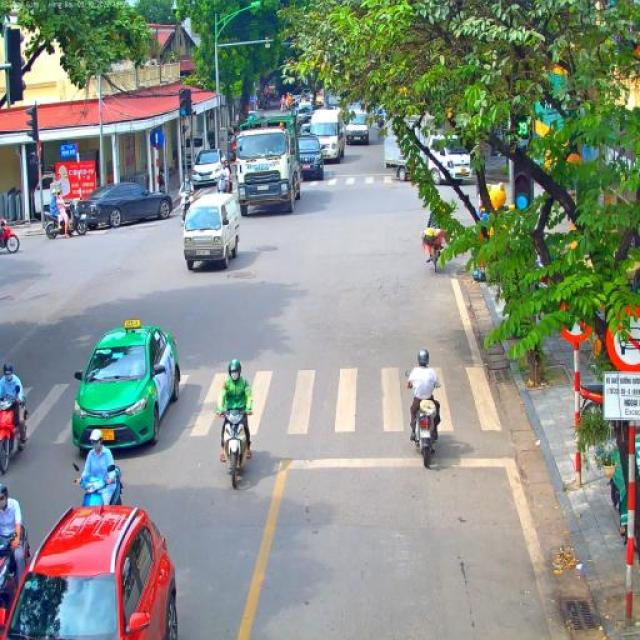car: (0, 504, 179, 640), (72, 319, 182, 455), (73, 181, 173, 231), (183, 192, 239, 272), (310, 108, 345, 164), (191, 148, 224, 186), (298, 135, 324, 181), (344, 107, 370, 145), (295, 101, 315, 132), (299, 123, 312, 137), (316, 91, 324, 108)
motorcycle: (404, 370, 440, 470), (215, 408, 253, 490), (0, 385, 28, 474), (0, 528, 30, 604), (73, 462, 122, 508), (42, 198, 88, 240), (0, 218, 20, 254), (178, 190, 194, 225), (216, 173, 233, 193), (378, 111, 383, 129), (288, 100, 294, 112), (282, 101, 288, 112)
truck: (234, 110, 302, 216), (383, 118, 472, 186), (324, 94, 336, 110)
